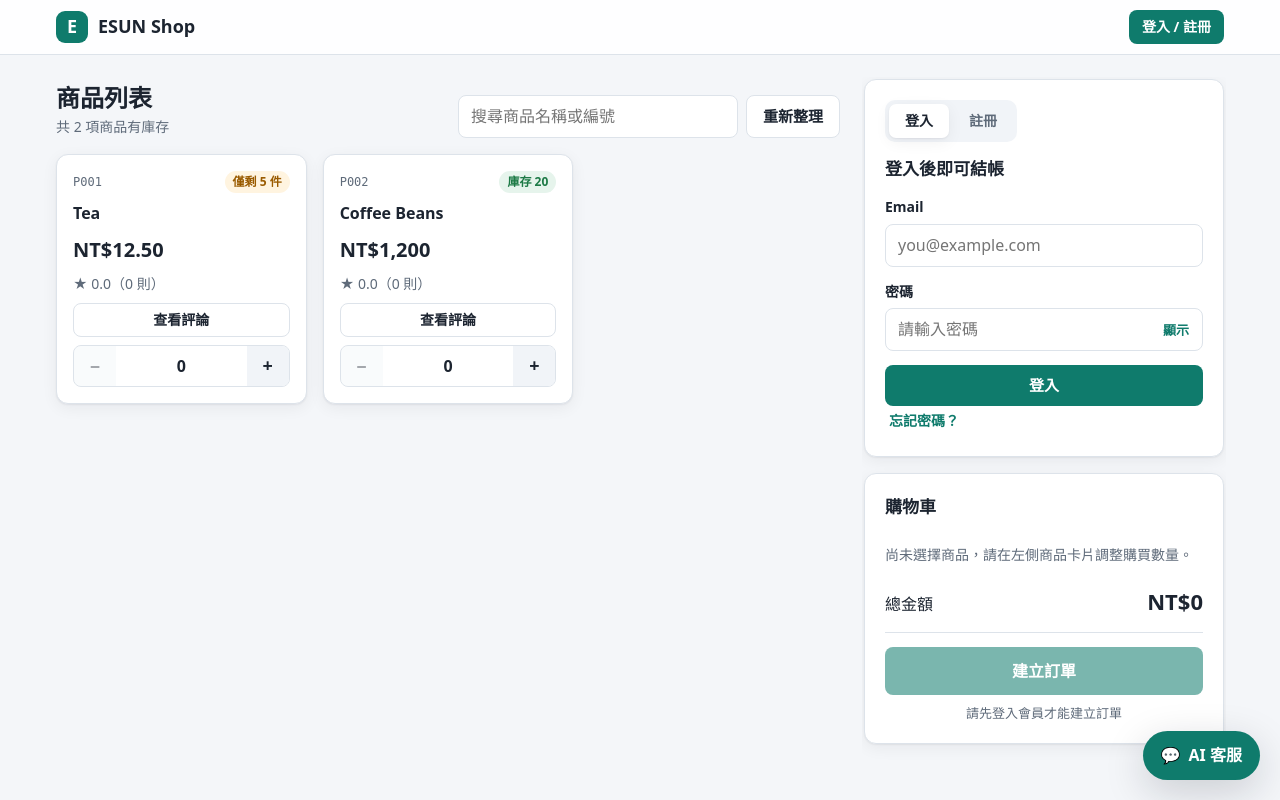
Scenario: authentication UI › shows a connection-specific message for network failure
Type "member@example.com" into the field with id "auth-email".
click(1044, 245); type("member@example.com")  # box [885,224,1203,266]
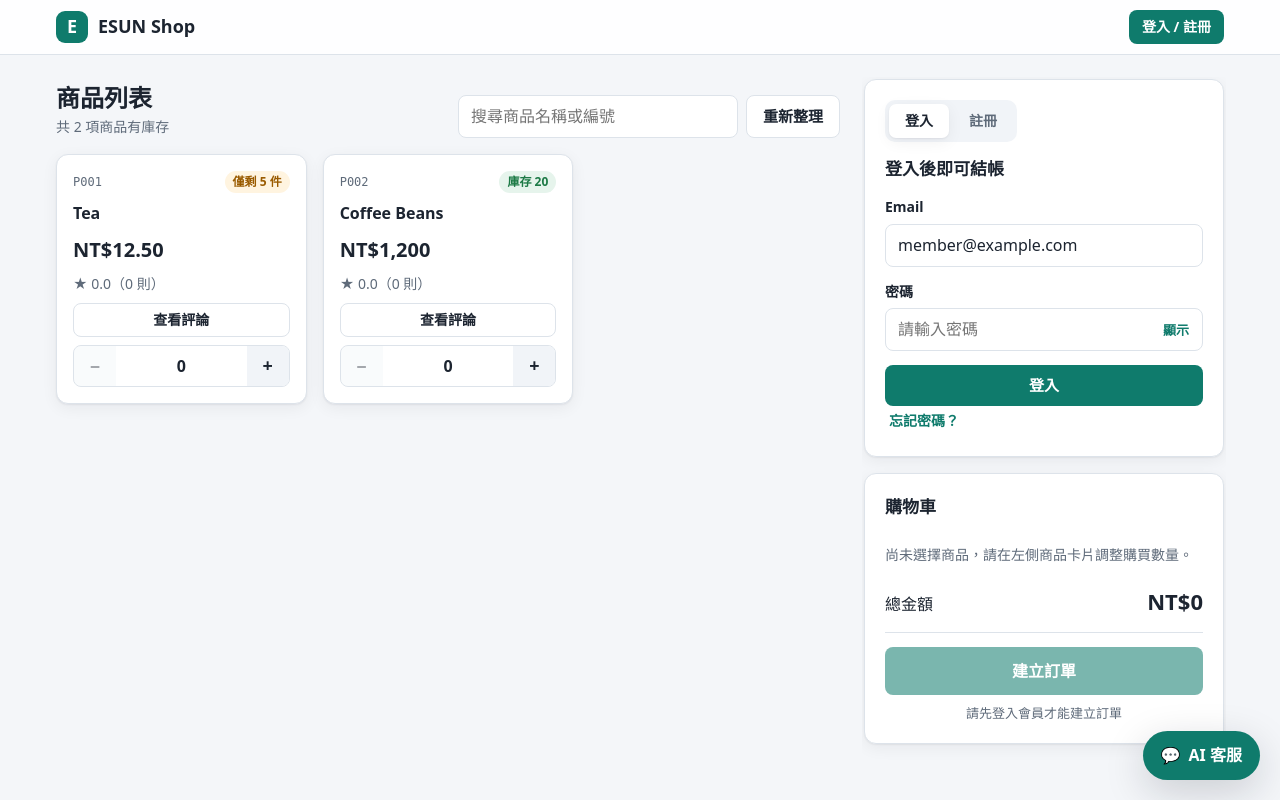
Type "password123" into the password field with id "auth-password".
click(1044, 330); type("password123")  # box [885,308,1203,351]
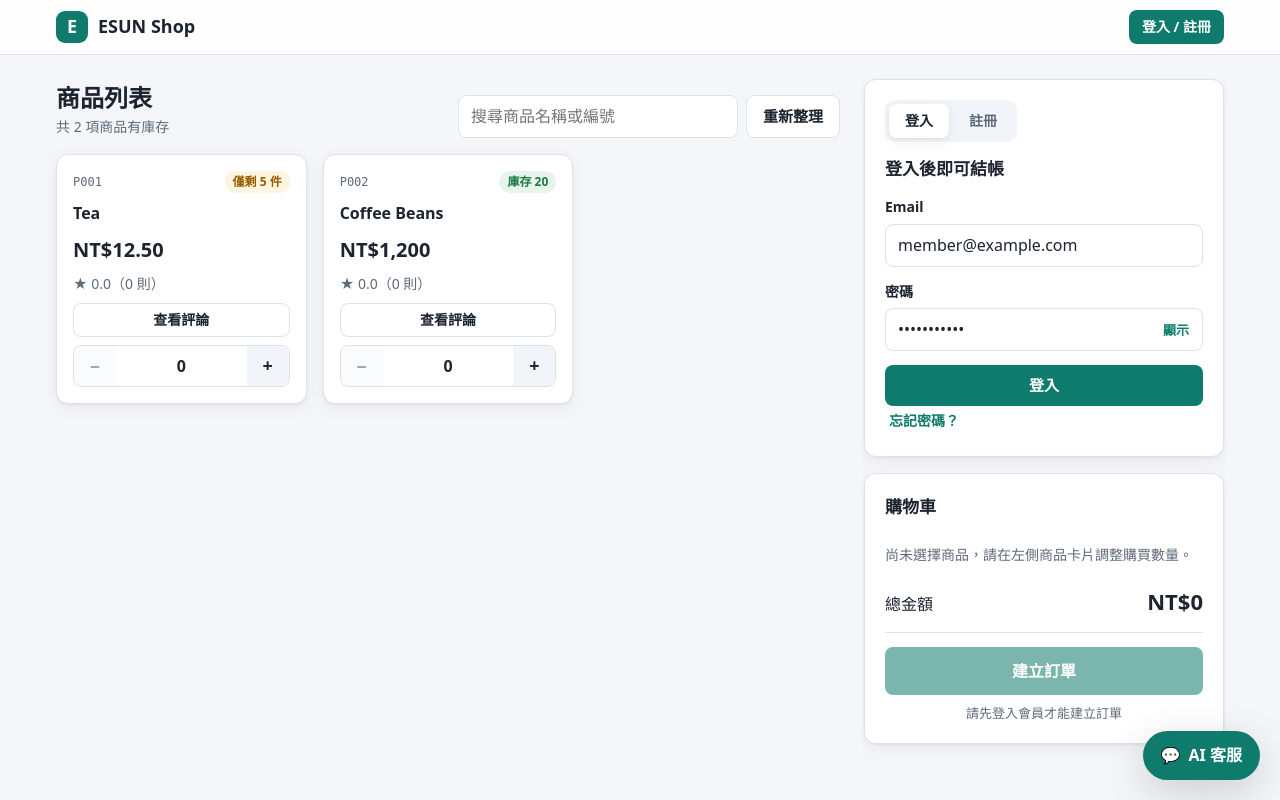
Submit the form "Email 密碼 顯示 登入 忘記密碼？", box [885,196,1203,436]
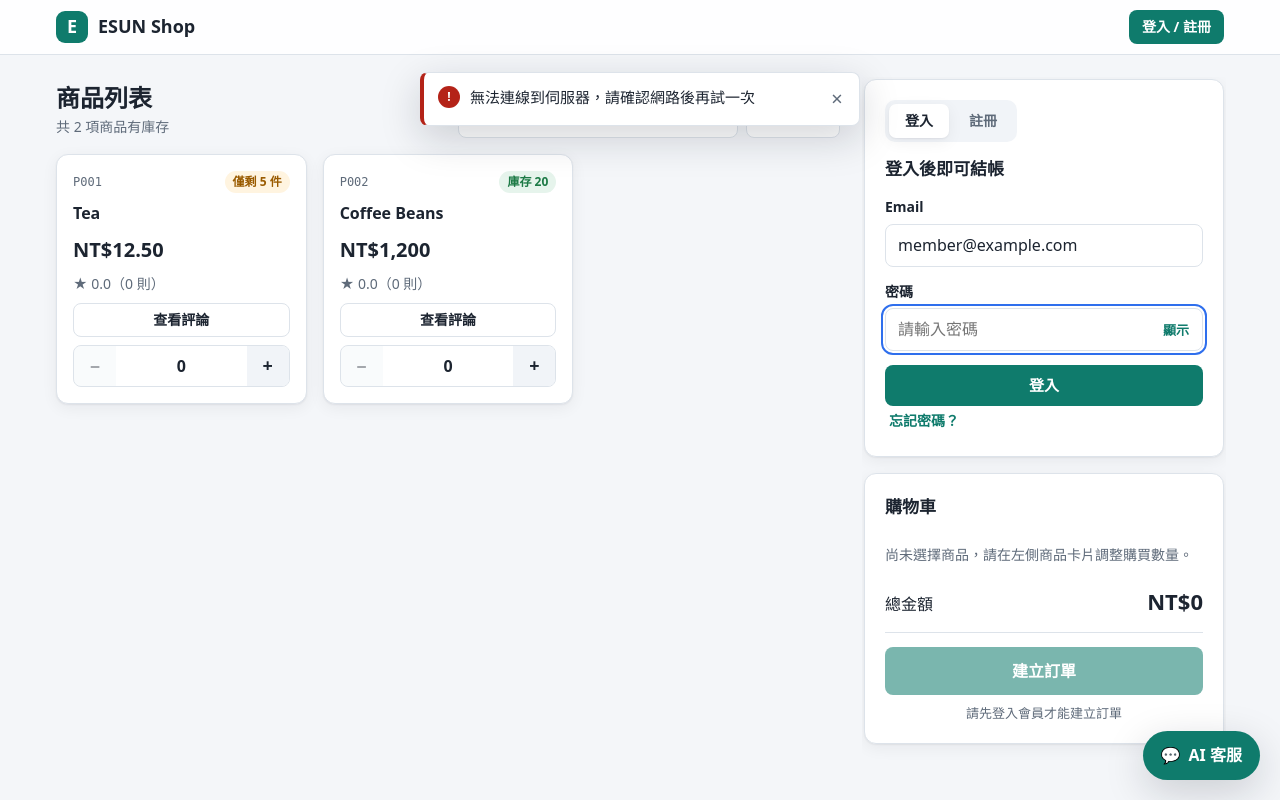
Now the text "無法連線到伺服器" is shown, box [470,87,755,107]
